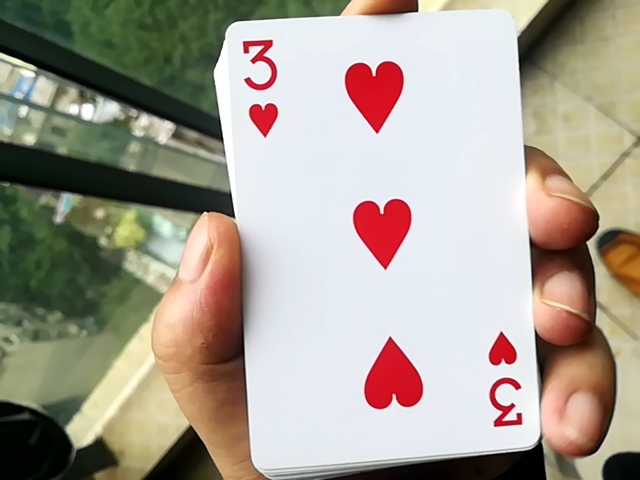hx 3: (201, 0, 541, 473)
